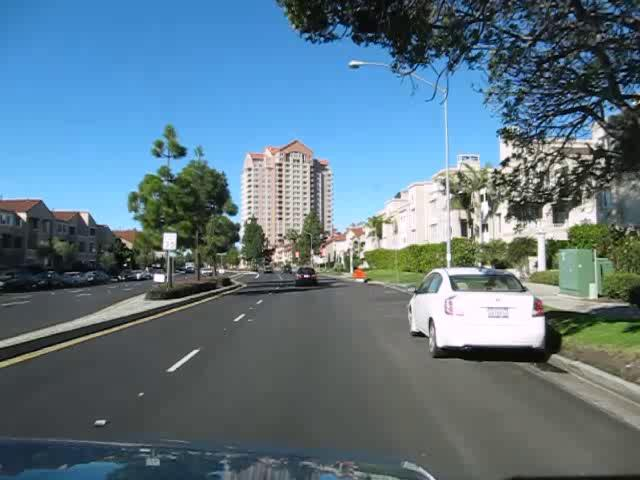speedLimit35: (162, 232, 177, 250)
